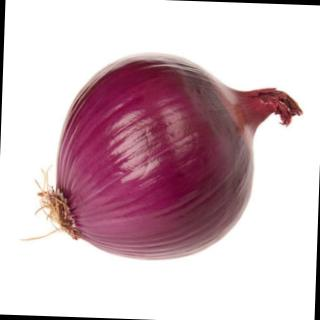Bawang Merah: (39, 47, 306, 269)
